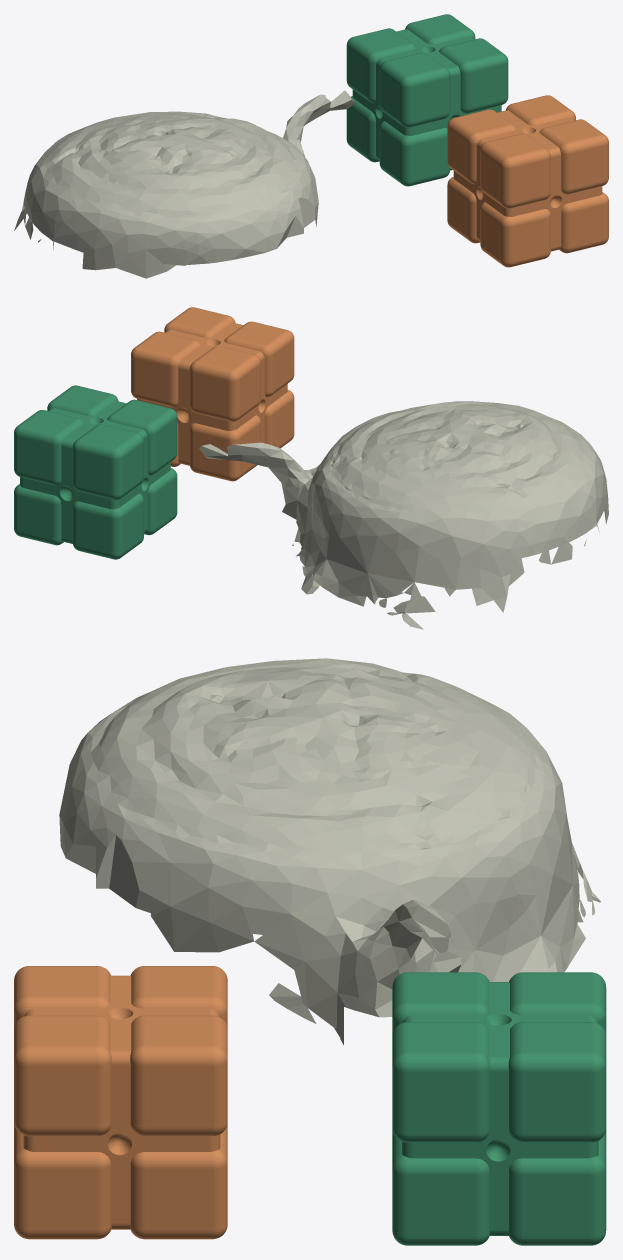
Rendered from airpodar.glb.
3 renders of one model, top to bottom at view 1: azimuth 30°, elevation 25°; view 2: azimuth 150°, elevation 25°; view 3: azimuth 270°, elevation 25°, orthographic. The views are drawn at different scales.
Visible parts, largest first — view 1: Mesh_Mesh_head_geo.001_lambert2SG.001; view 2: Mesh_Mesh_head_geo.001_lambert2SG.001; view 3: Mesh_Mesh_head_geo.001_lambert2SG.001.
Boxes of the visible parts, x1,y1,x2,y2 form: Mesh_Mesh_head_geo.001_lambert2SG.001: (14,14,608,278); Mesh_Mesh_head_geo.001_lambert2SG.001: (14,307,608,629); Mesh_Mesh_head_geo.001_lambert2SG.001: (14,658,606,1245).
Bounding box in the file's own units: 131 × 33.67 × 78.62.
